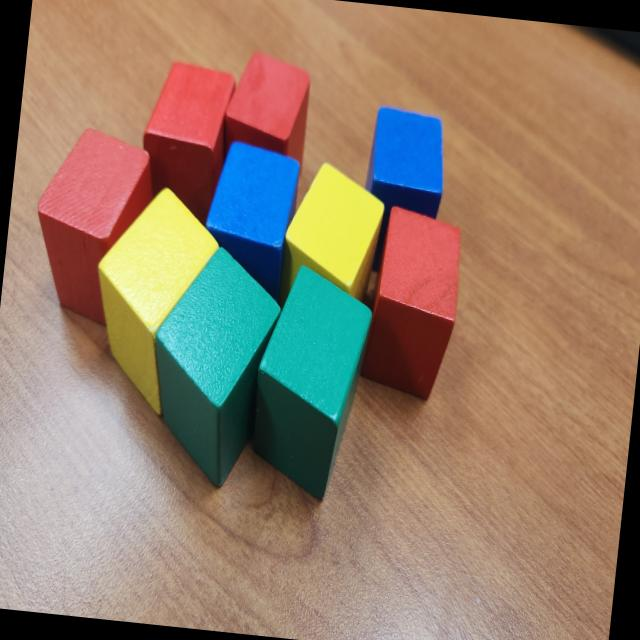blue: (197, 139, 303, 305), (358, 104, 452, 227)
green: (138, 240, 288, 492), (242, 260, 382, 506)
red: (25, 121, 162, 330), (355, 204, 468, 406), (132, 57, 238, 232), (218, 48, 316, 171)
yellow: (84, 180, 226, 418), (277, 158, 388, 314)
